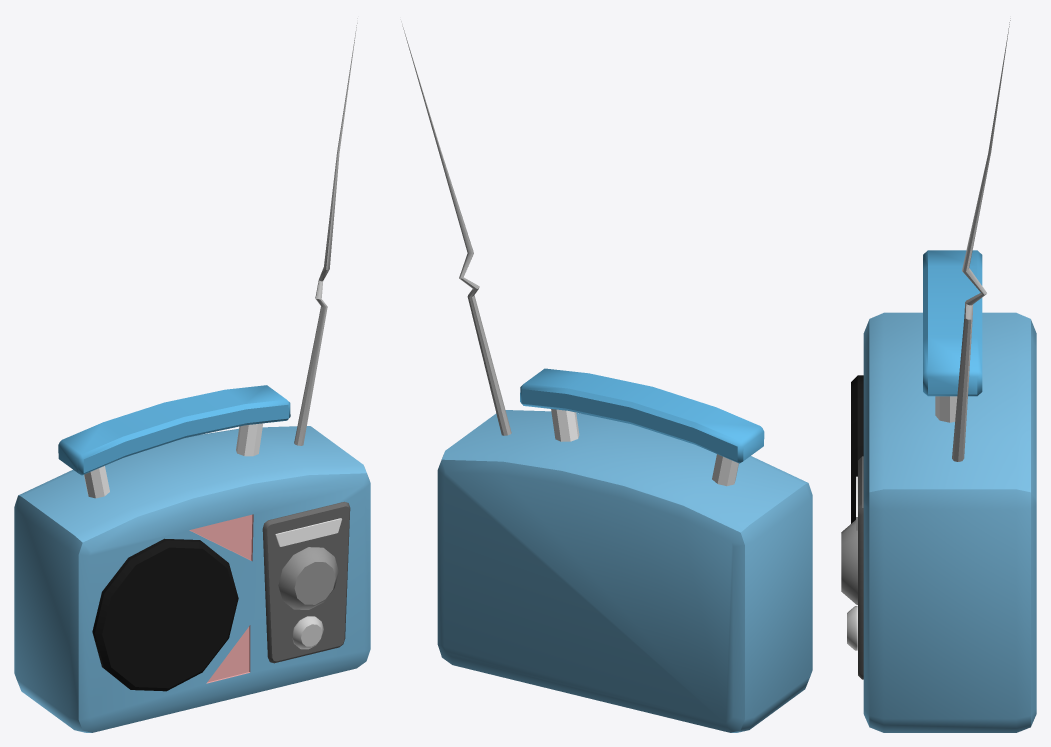
The model's file is radio.fbx.
The picture shows the model from 3 angles, left to right: view 1: azimuth 30°, elevation 25°; view 2: azimuth 150°, elevation 25°; view 3: azimuth 270°, elevation 25°; orthographic projection. The views are drawn at different scales.
Visible parts, largest first — view 1: Radio; view 2: Radio; view 3: Radio.
Part boxes in pixels (box(x1,y1,x2,y2)): Radio: box(14, 18, 370, 732); Radio: box(401, 21, 812, 732); Radio: box(841, 18, 1036, 732).
Size of the model in its own units: 992 by 1681 by 395.
